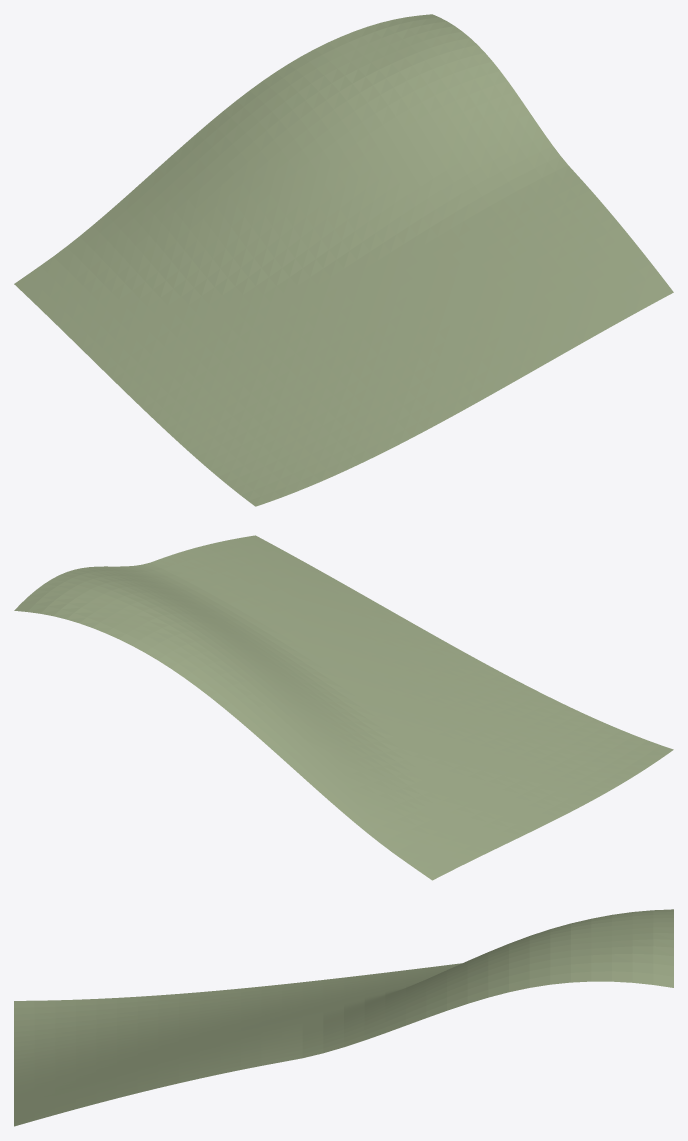
The model's file is desert-24-21.glb.
3 views of the same model, one above another, from view 1: azimuth 30°, elevation 25°; view 2: azimuth 150°, elevation 25°; view 3: azimuth 270°, elevation 25° (orthographic). The views are drawn at different scales.
Visible parts, largest first — view 1: desert-24-21; view 2: desert-24-21; view 3: desert-24-21.
Boxes of the visible parts, x1,y1,x2,y2 form: desert-24-21: (14, 14, 673, 506); desert-24-21: (14, 535, 673, 880); desert-24-21: (14, 909, 673, 1126).
Bounding box in the file's own units: 512 × 257 × 512.
